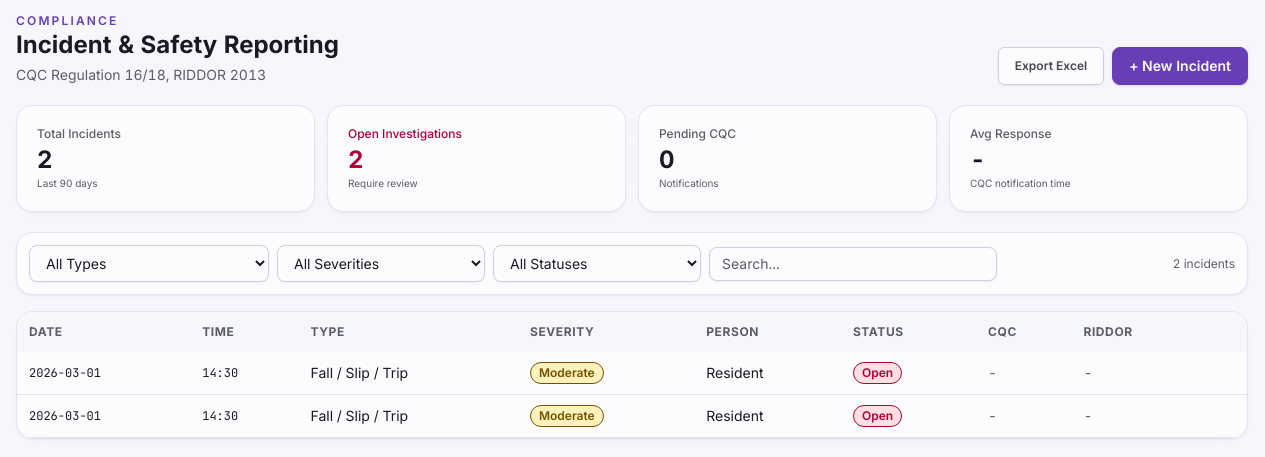
IncidentTracker › search box filters incidents by description text
Expected: the text "2026-03-01" is shown 2 times, [17,352,190,394]; [17,394,190,438]
Type "zephyr" into the field with placeholder "Search...".
click(853, 264); type("zephyr")  # box [709,246,997,280]
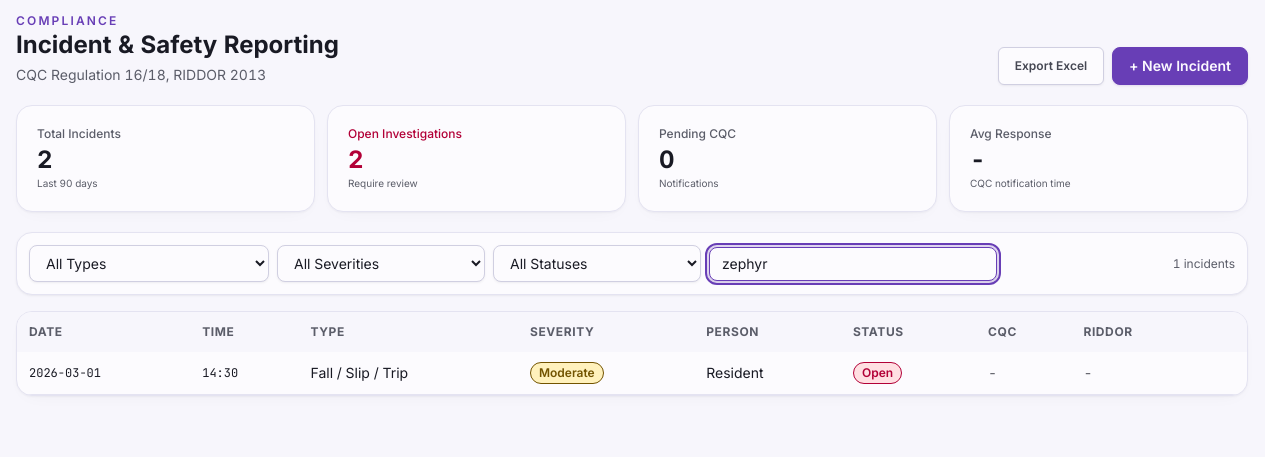
Now the text "2026-03-01" is shown once, box [17,352,190,394]
